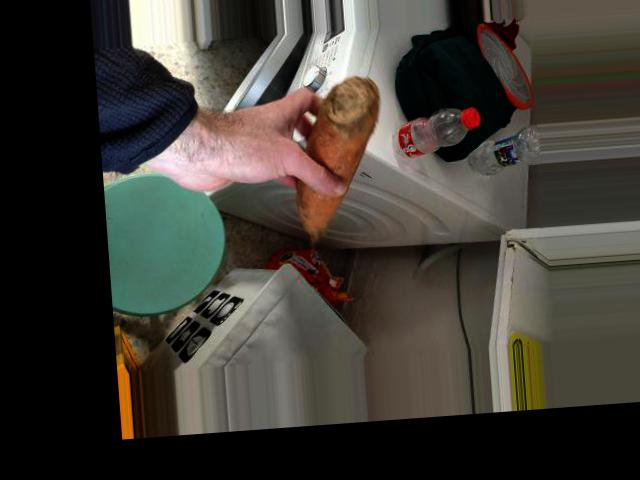sweet_potato: (276, 85, 394, 232)
